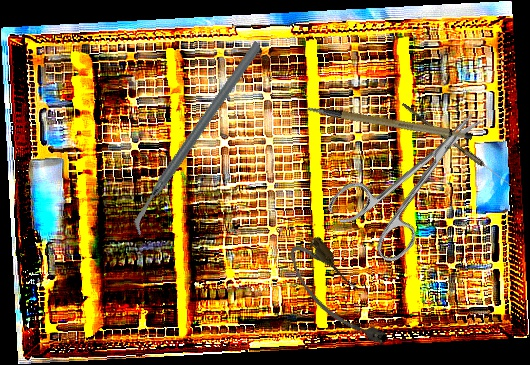Cannula: (280, 230, 396, 362)
Chopper: (83, 38, 313, 239)
Iris Scissors: (324, 87, 510, 271)
Scalpel Handle: (307, 80, 474, 162)
Surgical Spoon: (400, 102, 513, 188)
